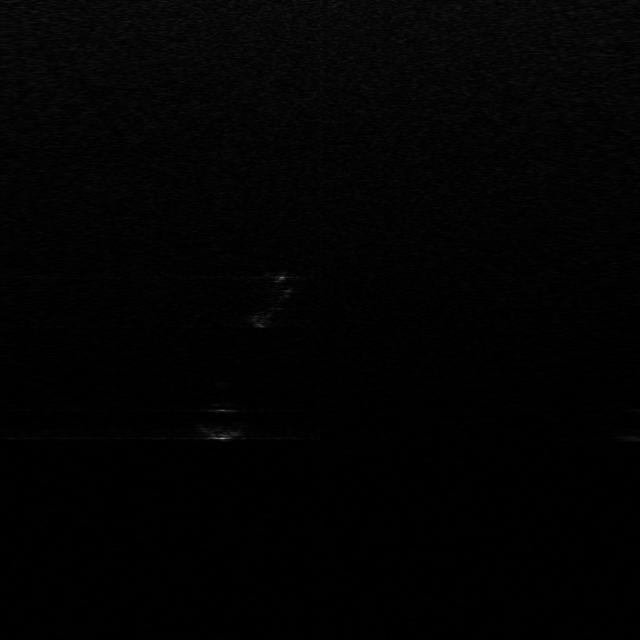ball: (193, 400, 248, 440)
tyre: (244, 269, 300, 327)
